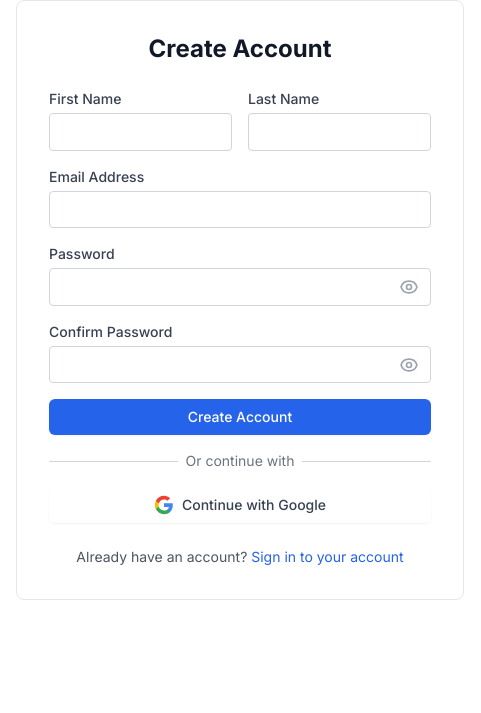
Test: RegistrationForm › should validate email format before submission
# Enter invalid email
Type "invalid-email" into the field labelled "Email Address" at (240, 209), box top-left (49, 191), bottom-right (431, 228)
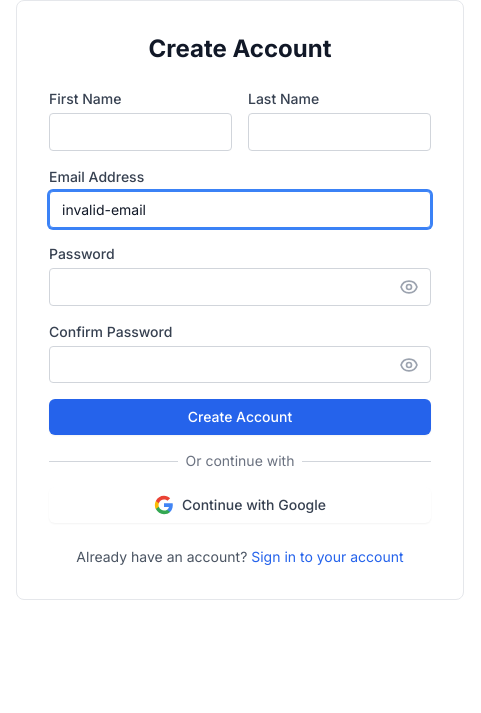
Click the button "Create Account" at (240, 417), box top-left (49, 399), bottom-right (431, 435)
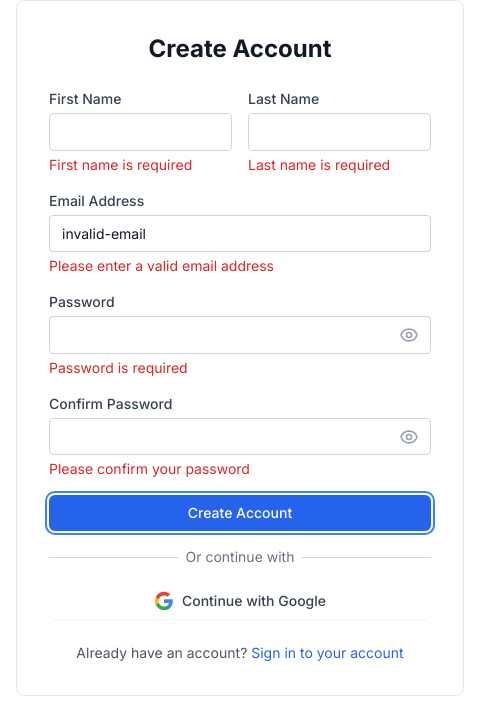
Now the text "Please enter a valid email address" is shown, box top-left (49, 257), bottom-right (274, 274)
